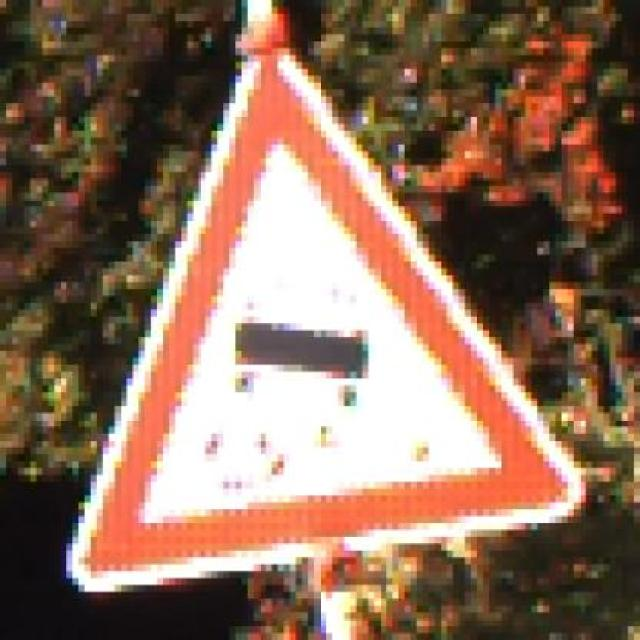Slippery Road Ahead: (36, 48, 604, 592)
